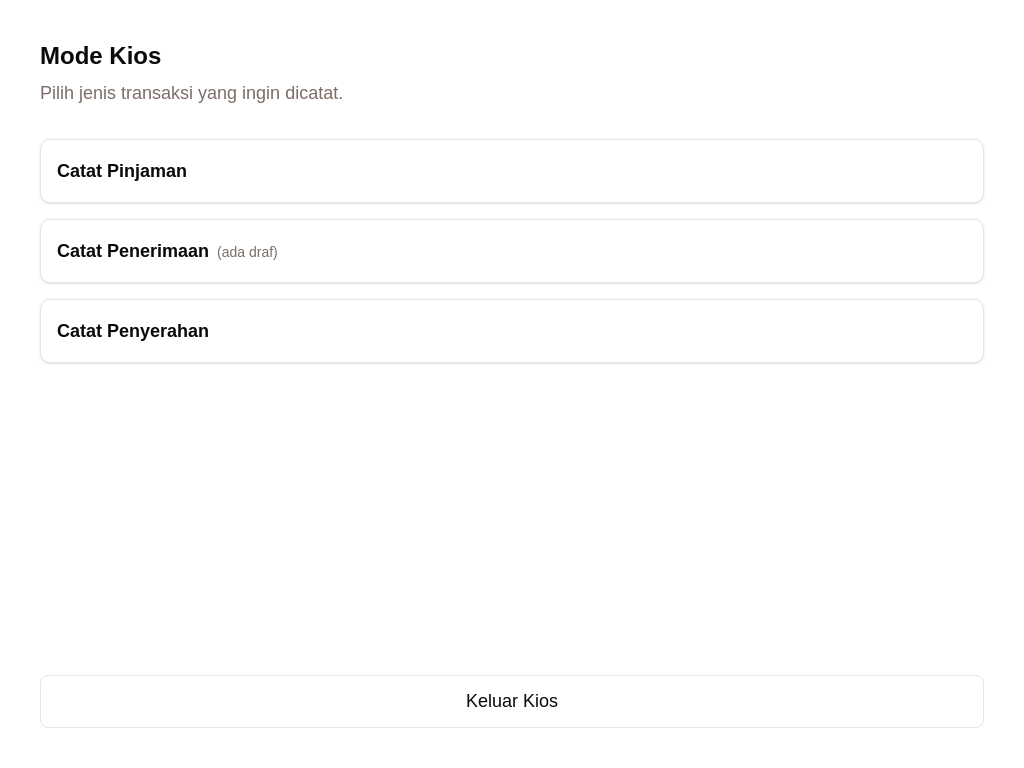
Test: KioskTypeSelect › resume prompt when draft exists — Requirement 5.6 › shows 'Lanjutkan' and 'Buang' buttons in the resume prompt
Click the text "Catat Penerimaan".
click(133, 251)  # box [57, 241, 209, 261]
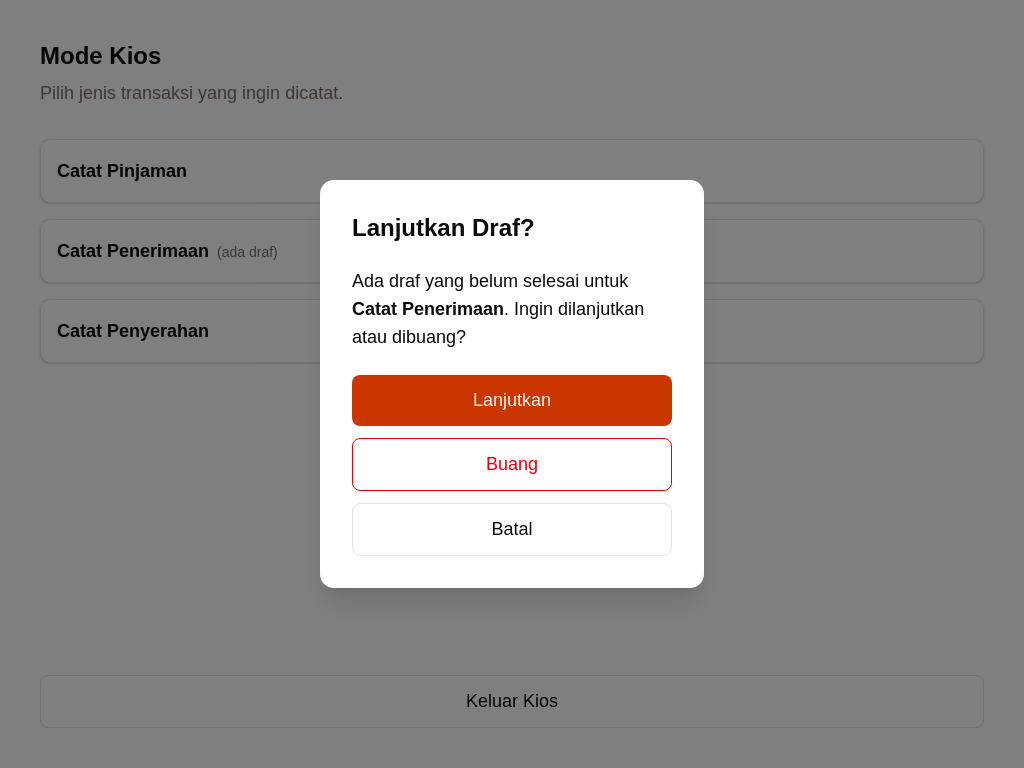
Now the button "Lanjutkan" is shown, box [352, 375, 672, 426]
Now the button "Buang" is shown, box [352, 438, 672, 491]
